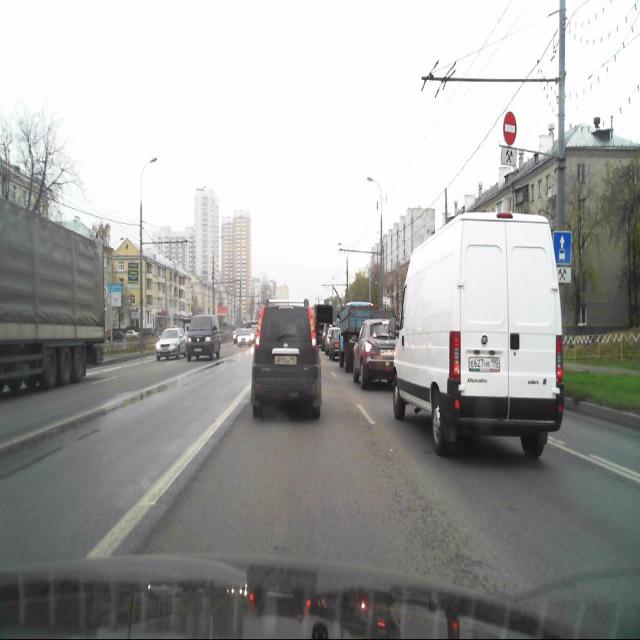road sign: (553, 231, 572, 264), (501, 148, 516, 168), (554, 268, 571, 285)
